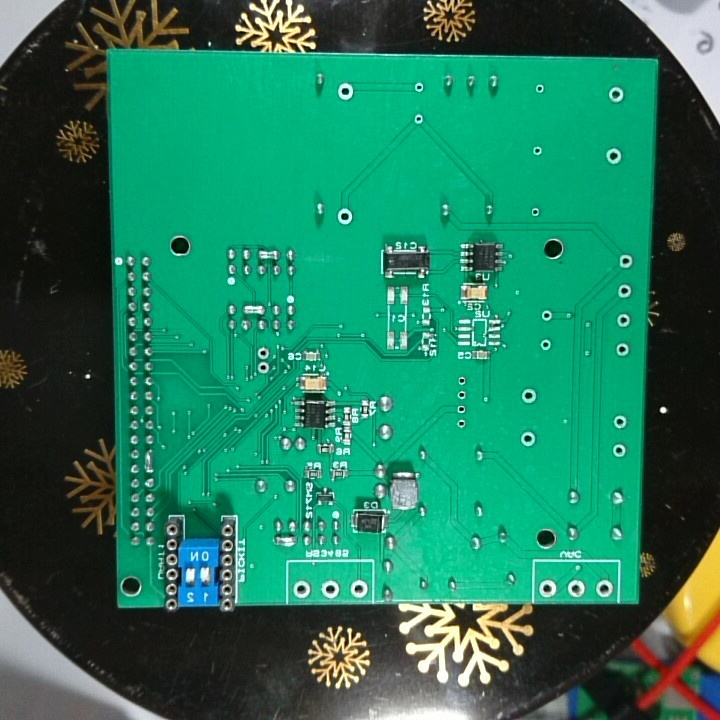F: (290, 579, 314, 601), (606, 83, 628, 105), (335, 80, 356, 102), (318, 580, 342, 599), (348, 578, 370, 598), (567, 576, 587, 598), (594, 578, 615, 598), (538, 578, 558, 598), (602, 148, 624, 166), (335, 207, 354, 227), (519, 386, 538, 405), (519, 429, 537, 449), (614, 311, 631, 332), (611, 443, 628, 461), (611, 413, 629, 430), (615, 340, 630, 360), (617, 252, 633, 270), (616, 283, 632, 300), (410, 78, 425, 95), (539, 309, 555, 324), (255, 360, 271, 375), (538, 338, 553, 352), (454, 388, 470, 401), (454, 418, 468, 432), (411, 112, 425, 126), (255, 346, 270, 359), (455, 403, 467, 418), (531, 143, 543, 158), (455, 375, 468, 388), (534, 82, 547, 95), (528, 206, 542, 218)
P: (271, 533, 298, 549), (142, 448, 157, 475), (239, 303, 268, 316), (257, 248, 281, 261)
